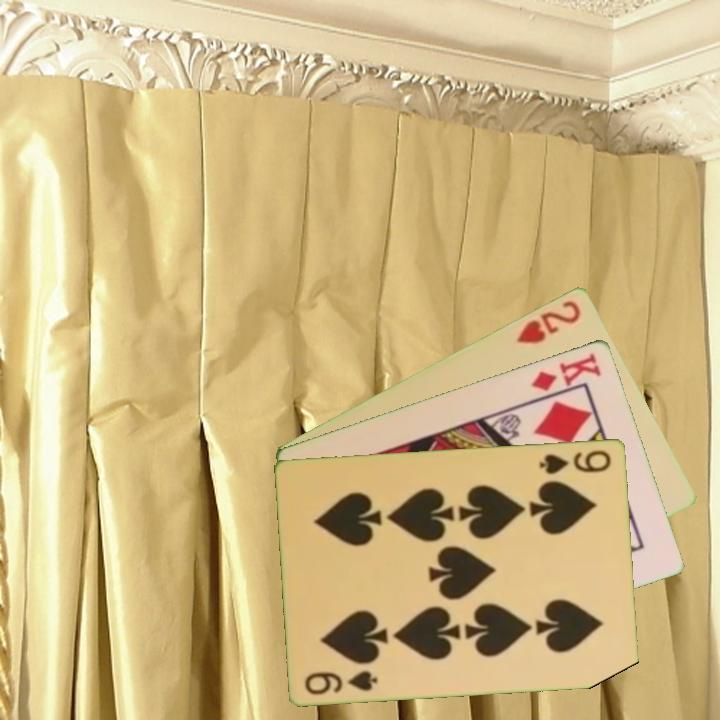2h: (512, 296, 584, 346)
9s: (301, 666, 381, 698), (536, 446, 614, 477)
Kd: (528, 348, 604, 393)
